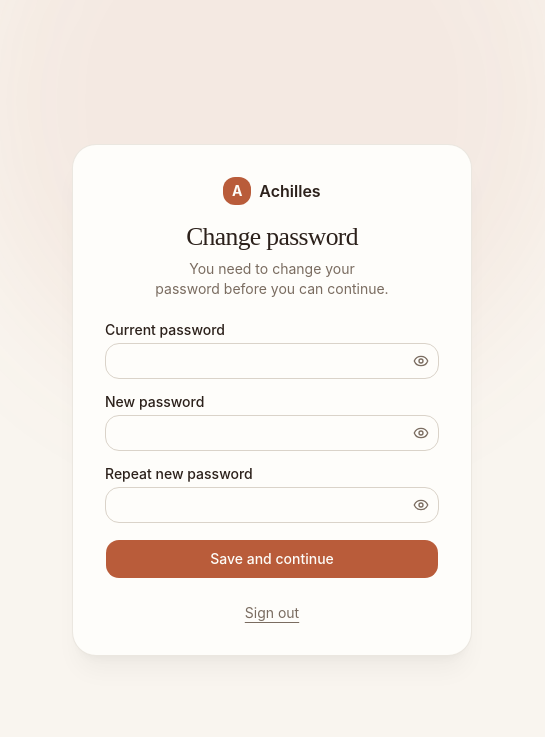
it: ChangePasswordPage › surfaces a weak-password rejection from the policy
Type "old-passphrase-2026" into the password field labelled "Current password" at {"x": 272, "y": 361}, box [105,343,439,379]
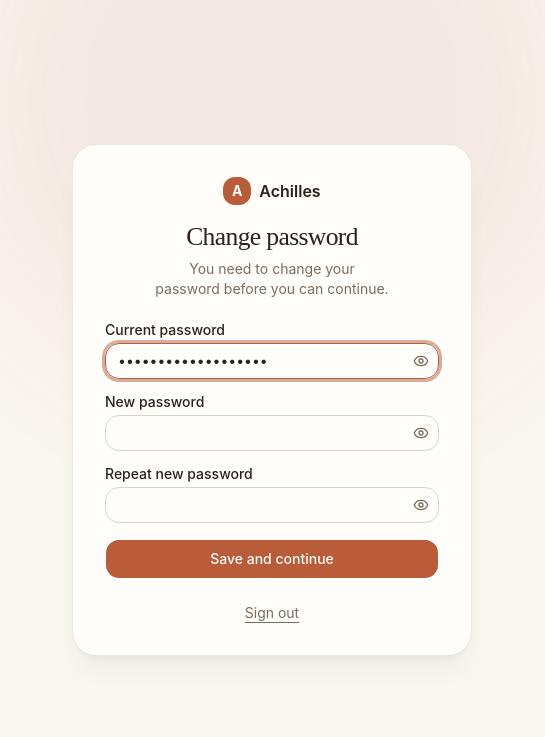
Type "weak" into the password field labelled "New password" at {"x": 272, "y": 433}, box [105,415,439,451]
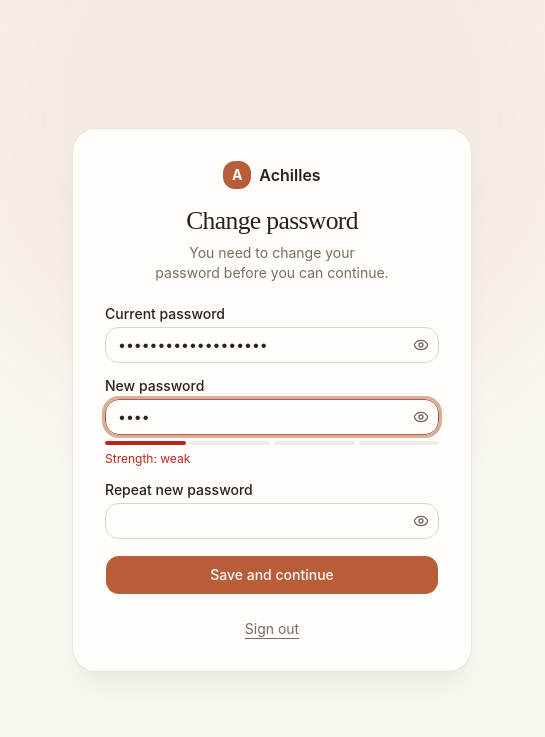
Type "weak" into the password field labelled "Repeat new password" at {"x": 272, "y": 521}, box [105,503,439,539]
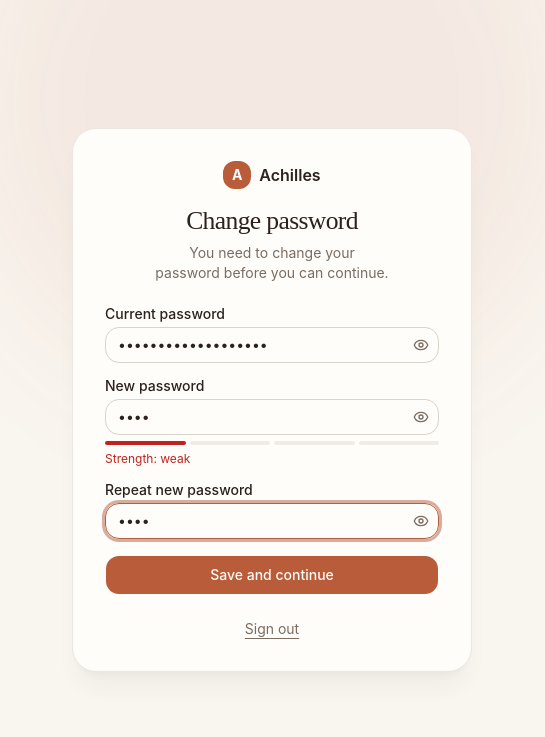
Click the button "Save and continue" at {"x": 272, "y": 575}, box [105,555,439,595]
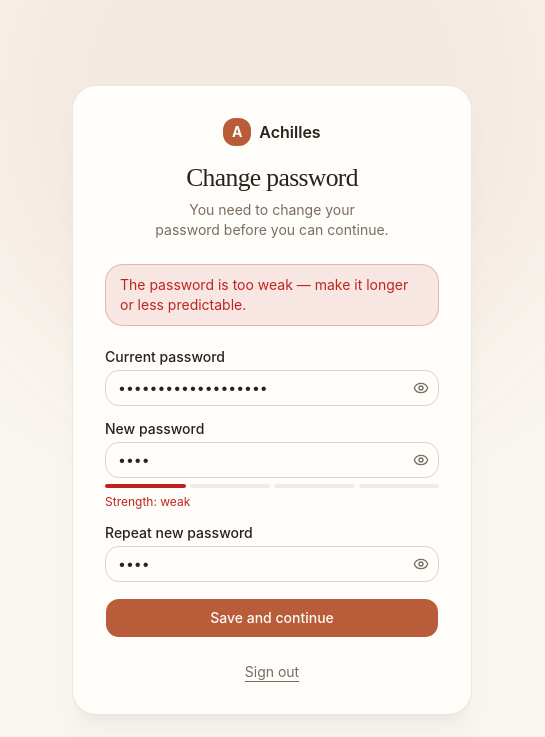
Now the text "The password is too weak — make it longer or less predictable." is shown, box [105,264,439,326]
